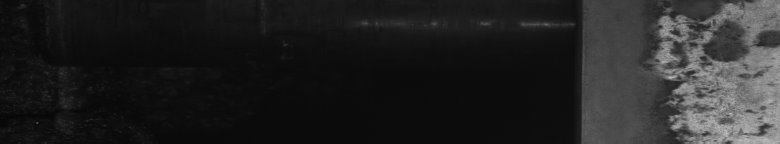kb: (652, 5, 776, 136)
